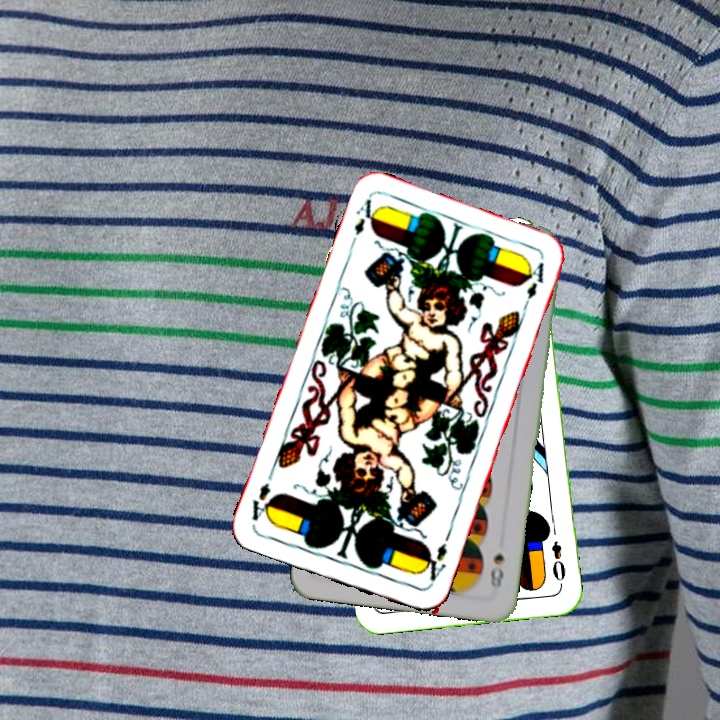EA: (345, 195, 382, 250), (418, 539, 450, 588)
EO: (547, 536, 568, 589)
S8: (486, 549, 507, 591)
